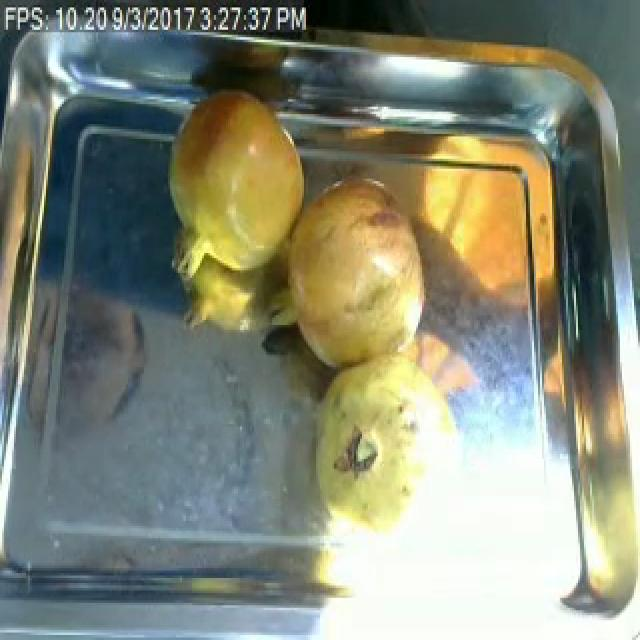fruit: (294, 337, 474, 546), (264, 166, 434, 385), (156, 79, 314, 288)
